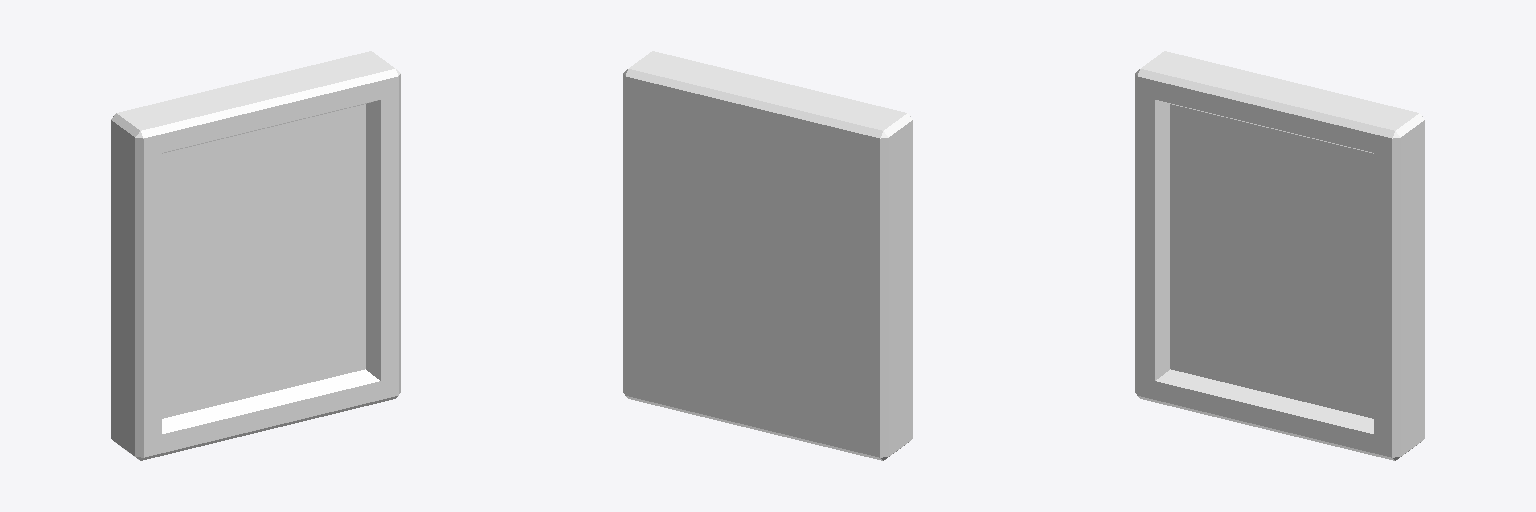
The model's file is pictureframe_large_A.obj.
3 views of the same model, side by side, from view 1: azimuth 30°, elevation 25°; view 2: azimuth 150°, elevation 25°; view 3: azimuth 330°, elevation 25° (orthographic).
Visible parts, largest first — view 1: pictureframe_large_A_Cube.016; view 2: pictureframe_large_A_Cube.016; view 3: pictureframe_large_A_Cube.016.
Part boxes in pixels (left/top/right/bottom): pictureframe_large_A_Cube.016: left=111, top=51, right=400, bottom=460; pictureframe_large_A_Cube.016: left=623, top=51, right=912, bottom=460; pictureframe_large_A_Cube.016: left=1135, top=51, right=1424, bottom=460.
Size of the model in its own units: 1.01 by 1.2 by 0.2.